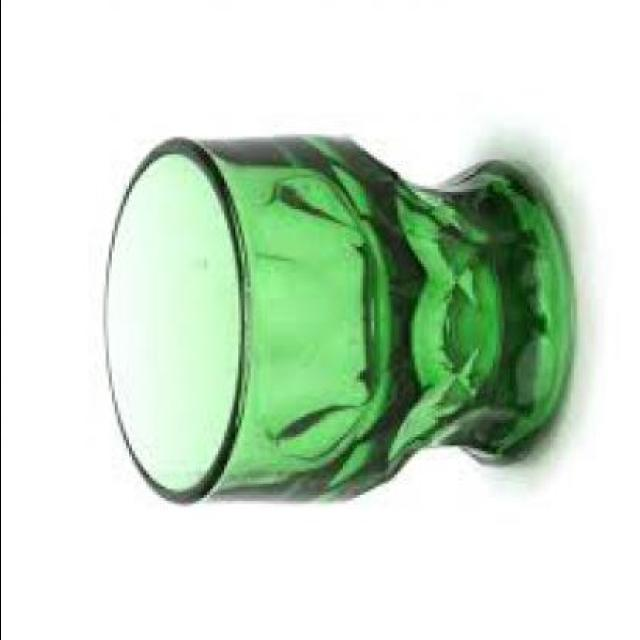kaca: (100, 132, 573, 506)
